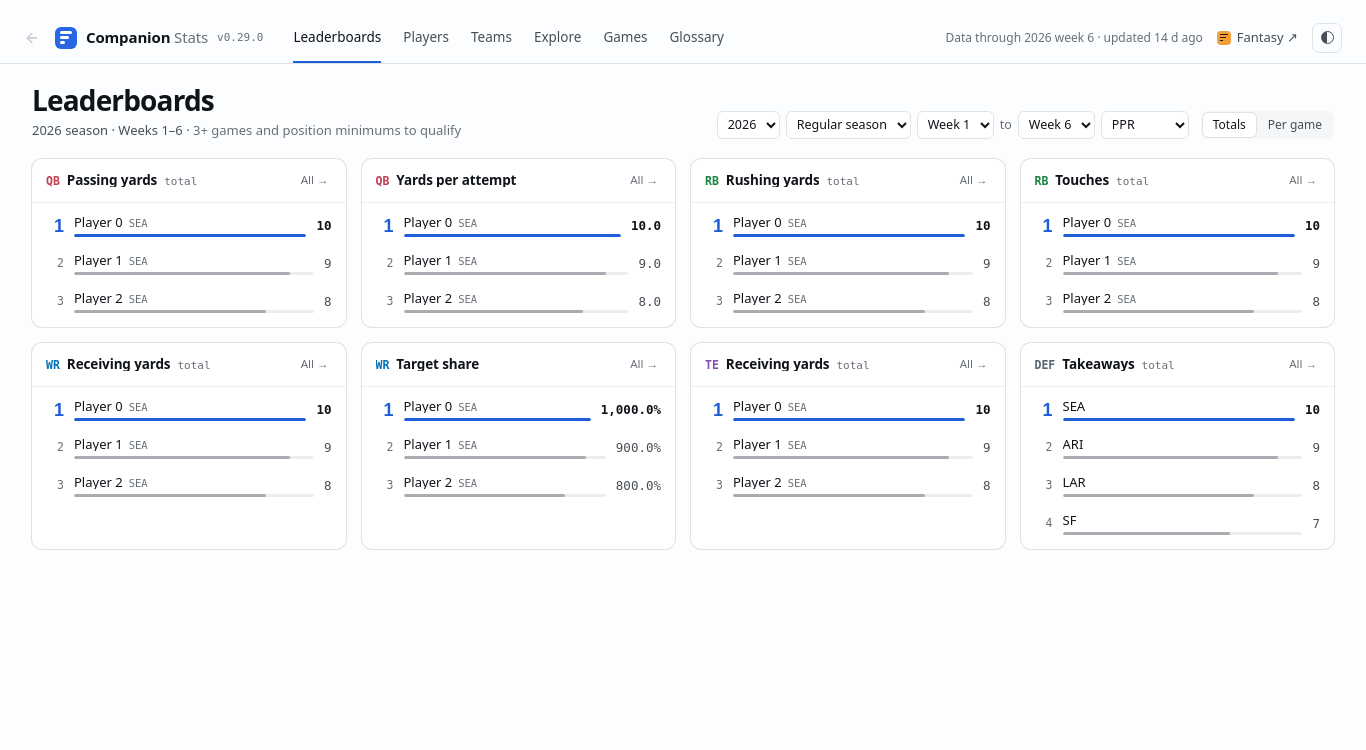
the team dashboard (spec §9.3) › opens on the first team without a league
Click the button "Teams". click: [491, 38]
box: 471,12 -> 512,63
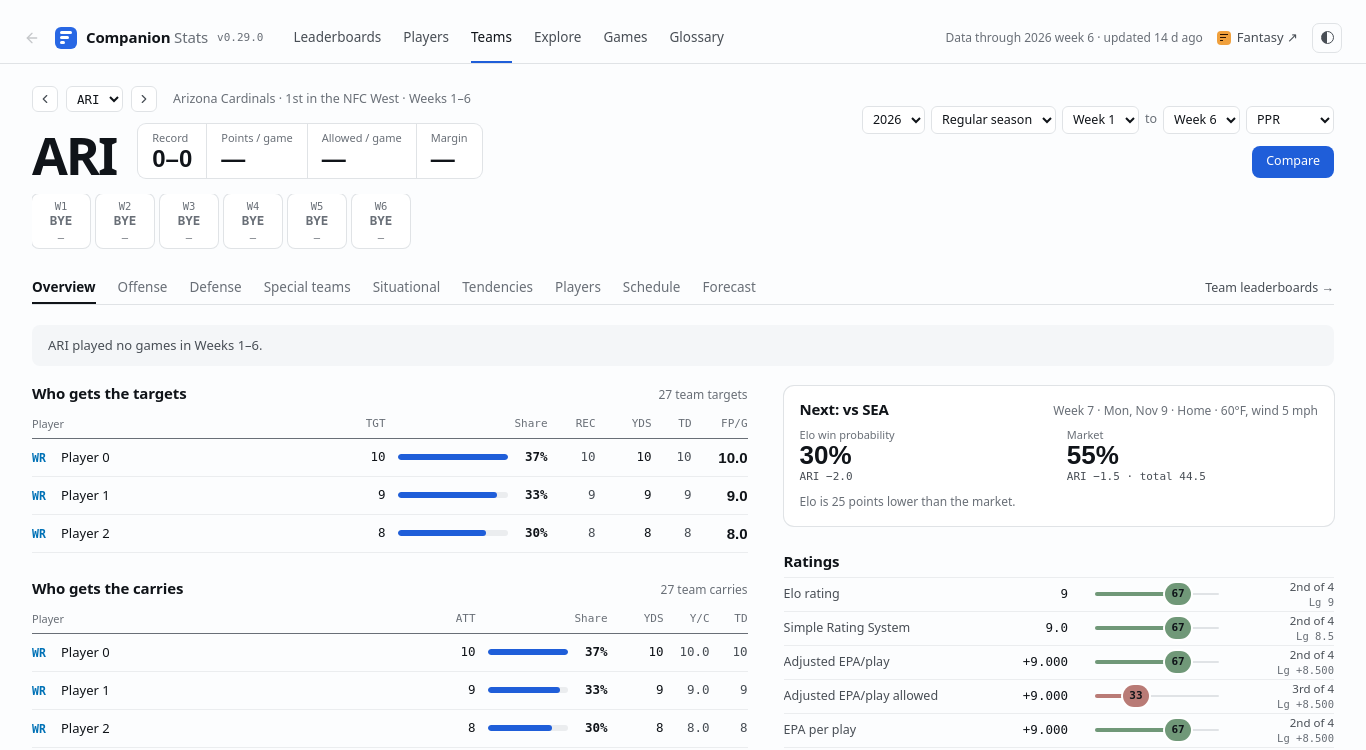
Result: the heading "ARI" is shown at 32,133 -> 116,178
